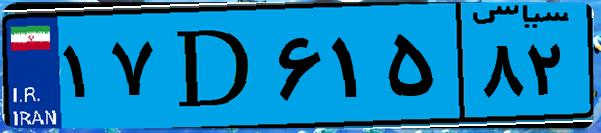1: (330, 28, 385, 110), (57, 26, 110, 100)
2: (525, 38, 570, 115)
5: (385, 28, 445, 110)
6: (270, 28, 330, 110)
7: (110, 28, 158, 98)
8: (475, 38, 525, 113)
D: (158, 12, 270, 120)
